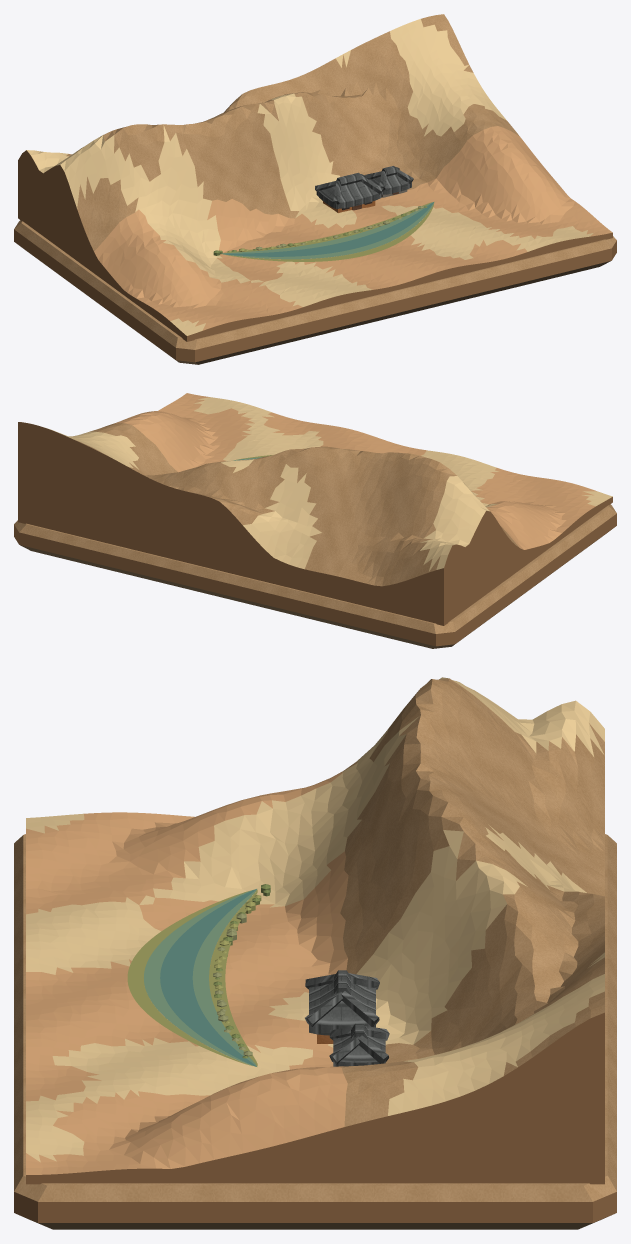
Rendered from crescent-lake.glb.
3 renders of one model, top to bottom at view 1: azimuth 30°, elevation 25°; view 2: azimuth 150°, elevation 25°; view 3: azimuth 270°, elevation 25°, orthographic. The views are drawn at different scales.
Parts seen in each view (by area): view 1: 鸣沙山月牙泉; view 2: 鸣沙山月牙泉; view 3: 鸣沙山月牙泉.
Boxes of the visible parts, x1,y1,x2,y2 form: 鸣沙山月牙泉: [14, 14, 616, 364]; 鸣沙山月牙泉: [14, 393, 616, 648]; 鸣沙山月牙泉: [14, 677, 616, 1229].
Bounding box in the file's own units: 6.15 × 1.88 × 4.25.
15 materials, 5 textured.
